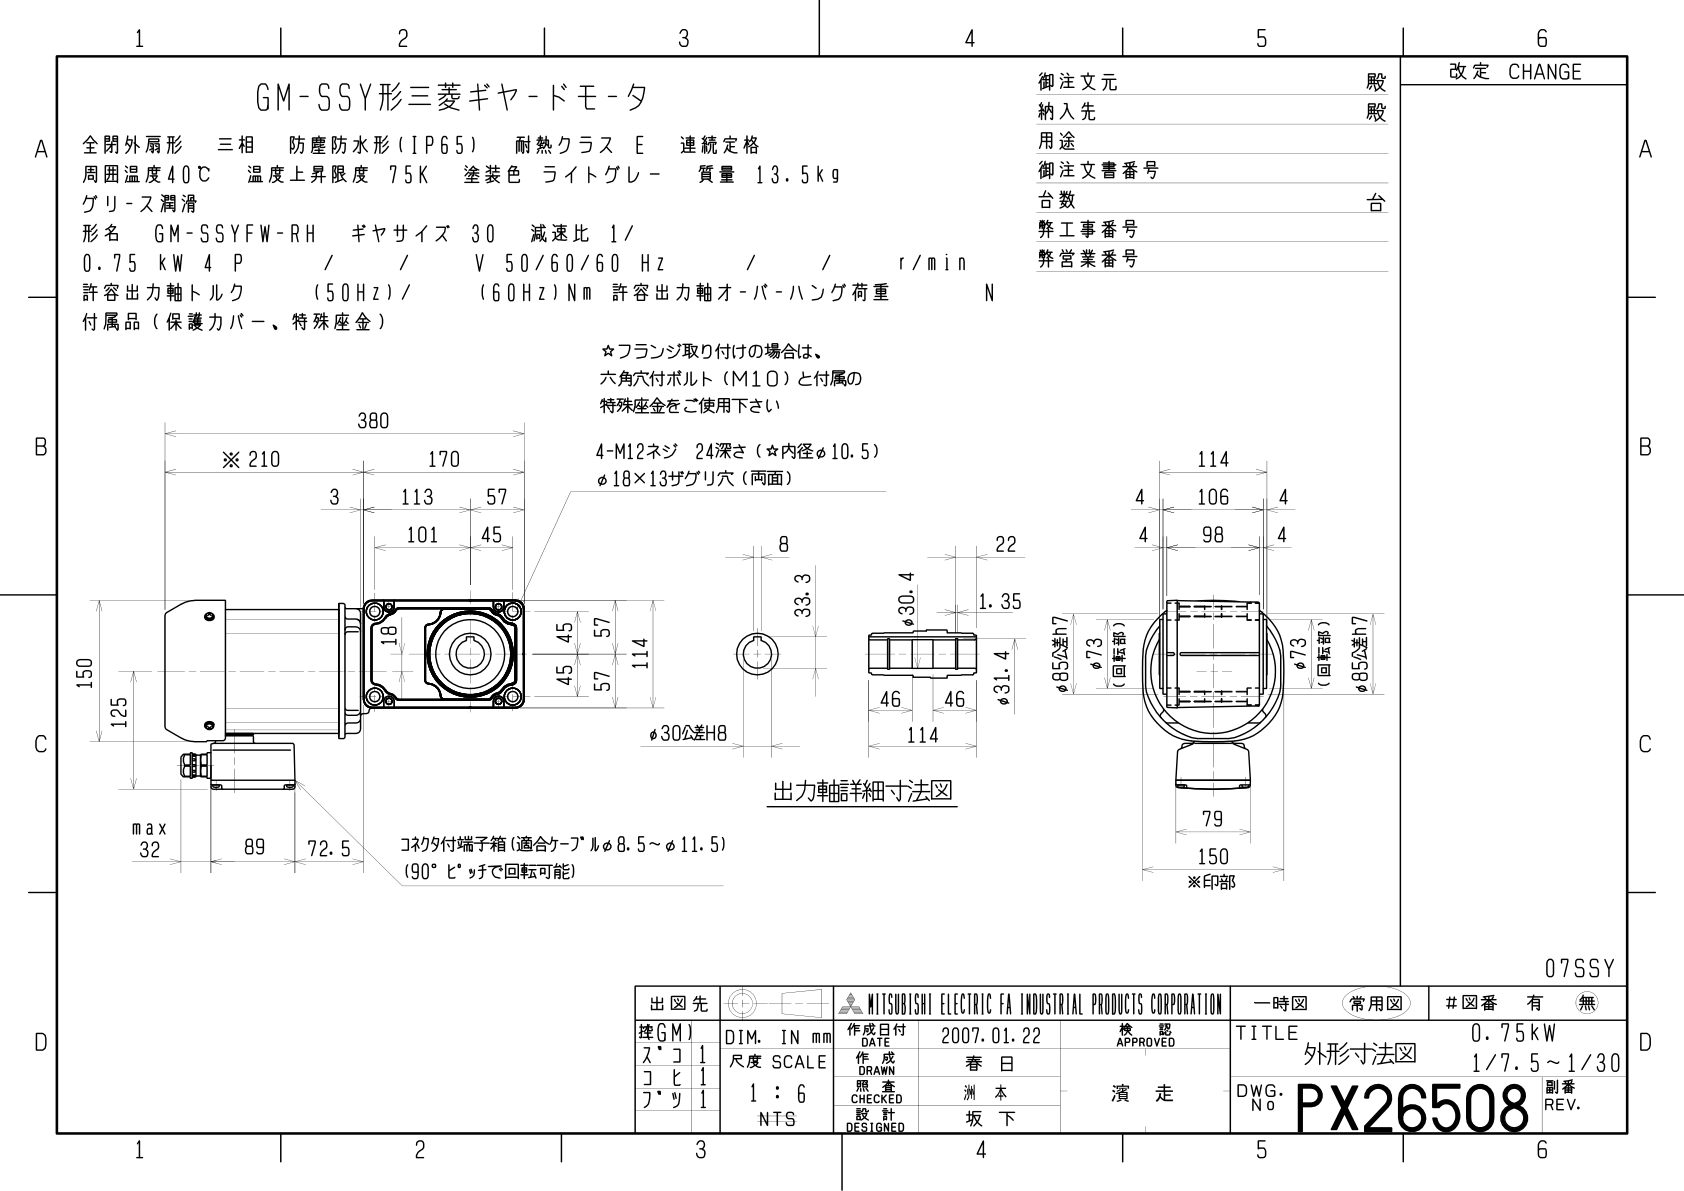GM_SSY_IP65_三相: (67, 343, 1392, 973)
